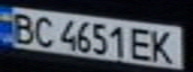1: (106, 24, 130, 58)
4: (54, 17, 78, 52)
5: (90, 20, 112, 56)
6: (72, 19, 93, 54)
B: (3, 9, 39, 45)
C: (27, 14, 57, 47)
E: (127, 25, 157, 62)
K: (145, 27, 184, 65)
